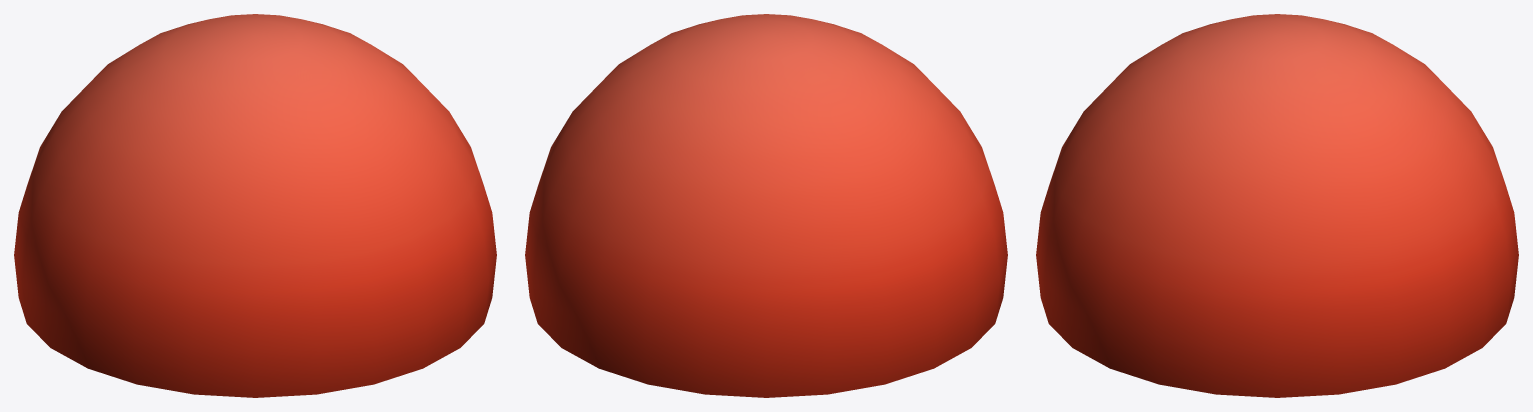
Rendered from Small_Sphere.fbx.
3 views of the same model, side by side, from view 1: azimuth 30°, elevation 25°; view 2: azimuth 150°, elevation 25°; view 3: azimuth 270°, elevation 25° (orthographic).
Parts seen in each view (by area): view 1: Sphere.003; view 2: Sphere.003; view 3: Sphere.003.
Part boxes in pixels (box(x1,y1,x2,y2)): Sphere.003: box(14, 14, 496, 397); Sphere.003: box(525, 14, 1007, 397); Sphere.003: box(1036, 14, 1518, 397).
Bounding box in the file's own units: 112 × 67.1 × 112.
